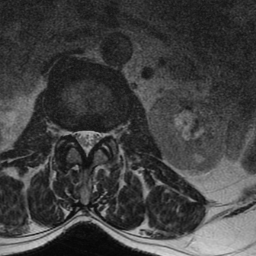CCS_normal: (82, 122, 91, 162)
LFS_severe_stenosis: (101, 121, 110, 146)
LLS_normal: (91, 122, 101, 153)
RFS_stenosis: (63, 119, 72, 145)
RLS_normal: (72, 122, 82, 151)
